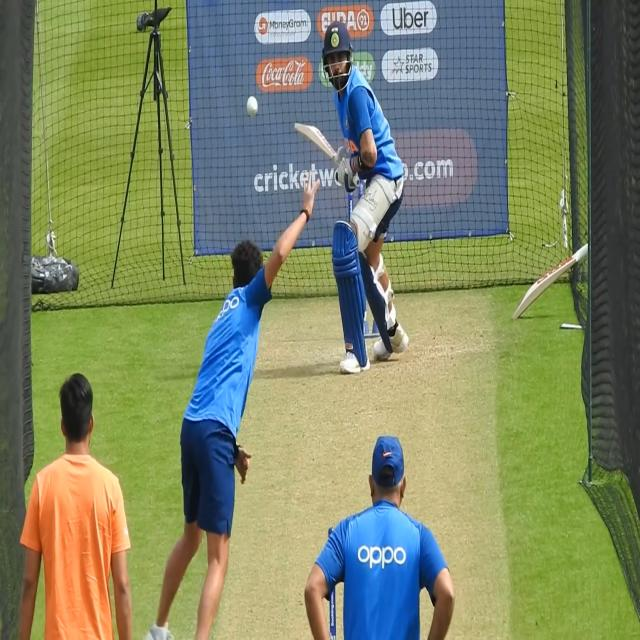Cricket ball: (245, 94, 261, 121)
